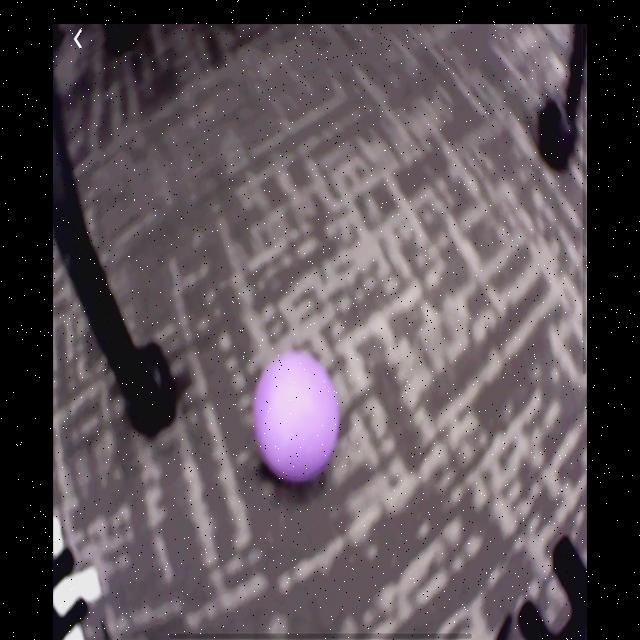ball: (251, 348, 341, 488)
